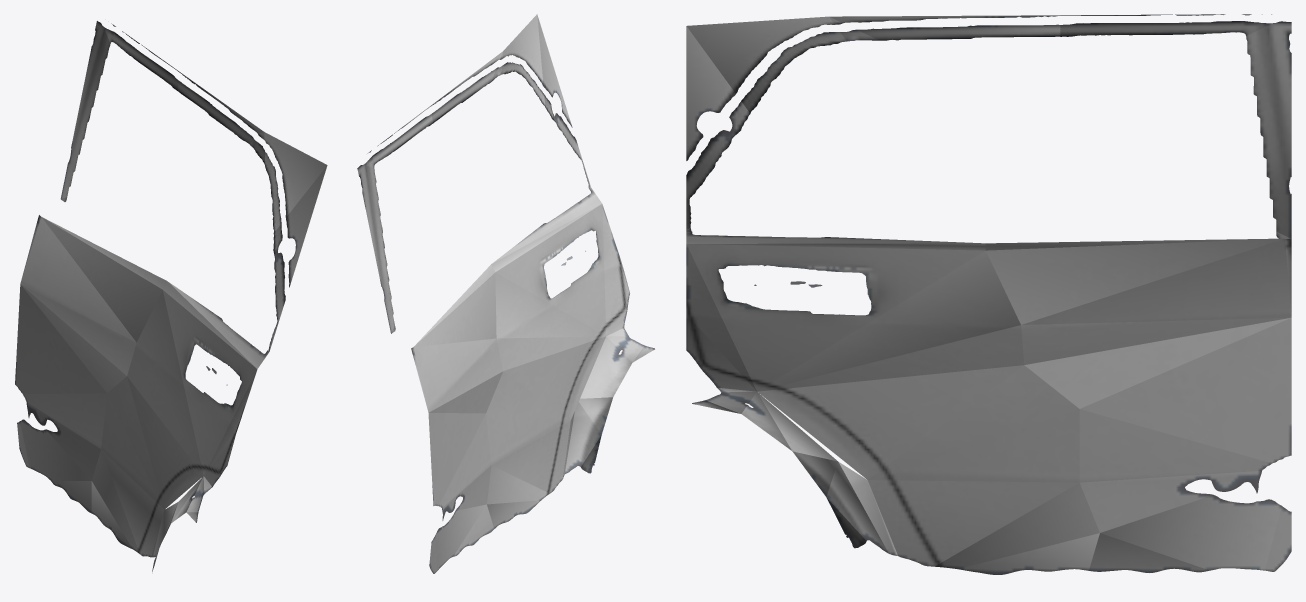
Rendered from SM_AbandonedCar_Door_RL_Broken.fbx.
3 renders of one model, left to right at view 1: azimuth 30°, elevation 25°; view 2: azimuth 150°, elevation 25°; view 3: azimuth 270°, elevation 25°, orthographic. The views are drawn at different scales.
Parts seen in each view (by area): view 1: SM_AbandonedCar_Door_RL_Broken; view 2: SM_AbandonedCar_Door_RL_Broken; view 3: SM_AbandonedCar_Door_RL_Broken.
Part boxes in pixels (x1,y1,x2,y2): SM_AbandonedCar_Door_RL_Broken: (15,21,327,571); SM_AbandonedCar_Door_RL_Broken: (357,14,654,573); SM_AbandonedCar_Door_RL_Broken: (686,14,1291,574).
Bounding box in the file's own units: 30.76 × 99.5 × 87.
